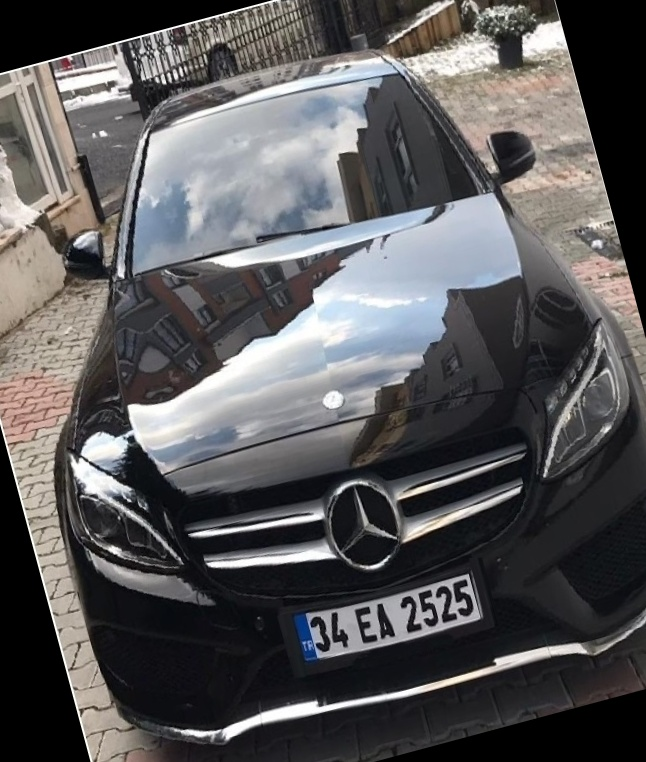plaka: (306, 577, 475, 656)
